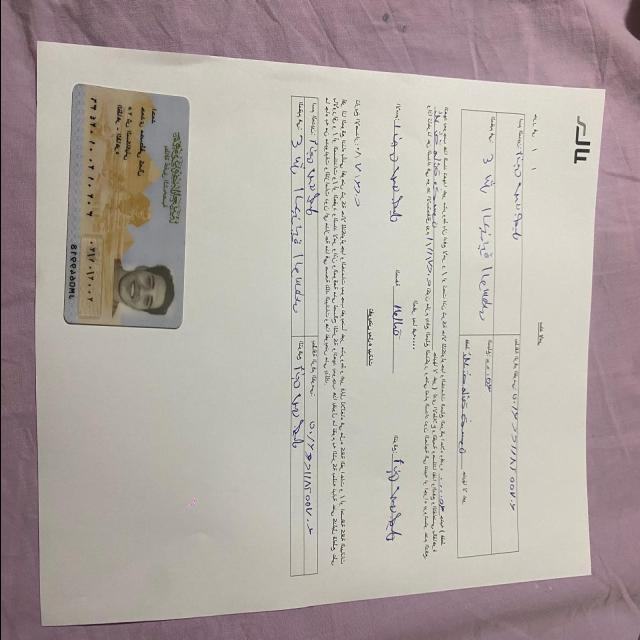id_card: (61, 80, 191, 332)
